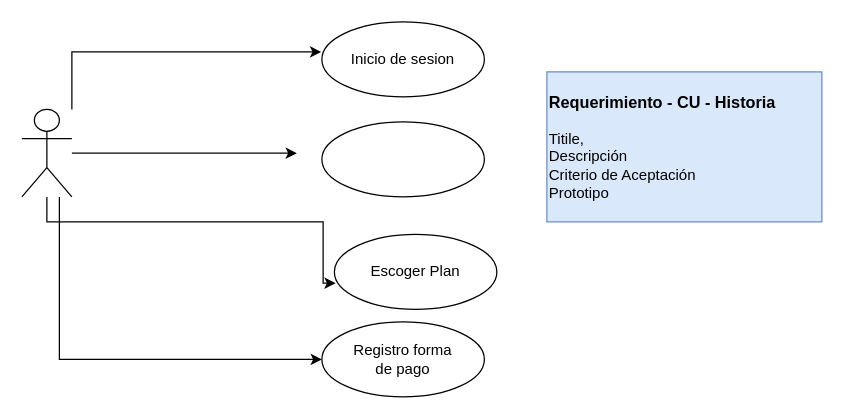
Image size: 844x419. Some labels were removed from this diagram. The shapes that lost their labels are listed below. From the top down, each one's centre as x and y in pixels, then its label:
At point 46,152: "Netflix".
At point 402,159: "Registro de cuenta".
